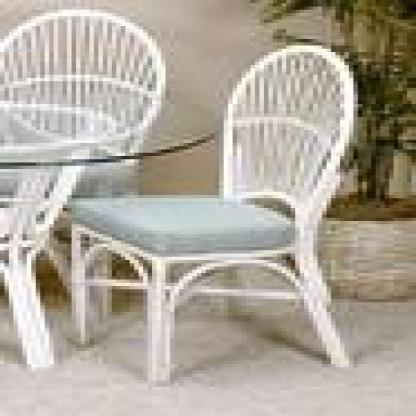Chair: (74, 39, 384, 397)
Table: (0, 56, 231, 386)
